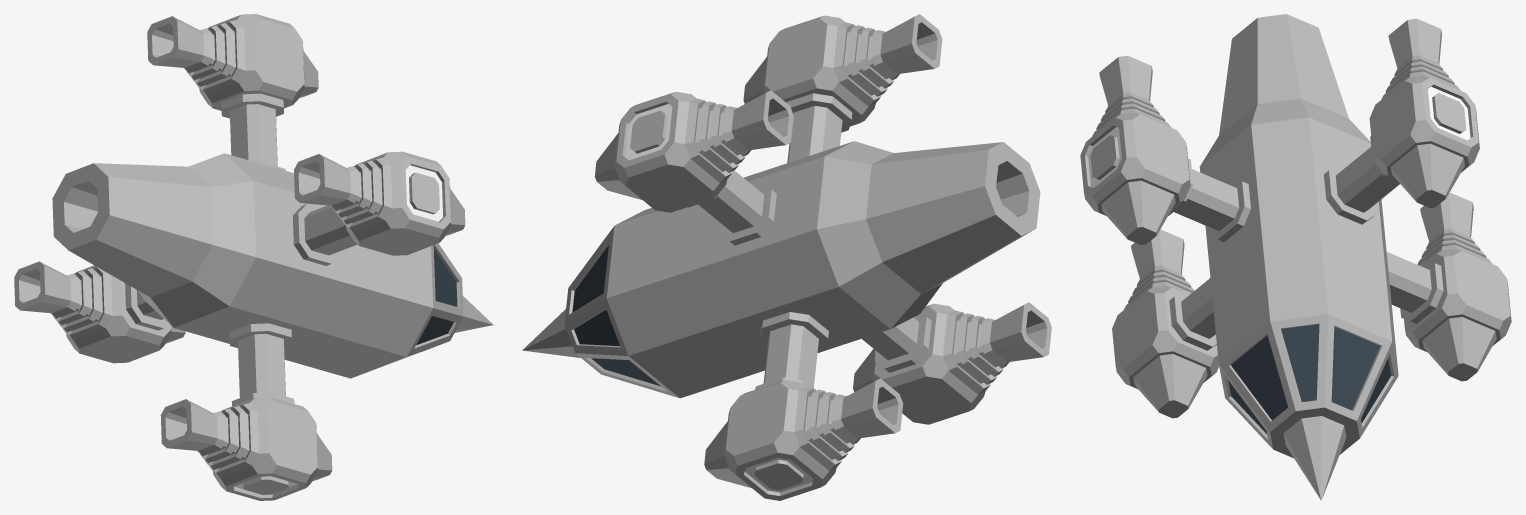
The model's file is Gemi(saglam).fbx.
3 views of the same model, side by side, from view 1: azimuth 30°, elevation 25°; view 2: azimuth 150°, elevation 25°; view 3: azimuth 270°, elevation 25° (orthographic). The views are drawn at different scales.
Visible parts, largest first — view 1: GemiSaglam; view 2: GemiSaglam; view 3: GemiSaglam.
Part boxes in pixels (x1=…): GemiSaglam: x1=14, y1=14, x2=493, y2=500; GemiSaglam: x1=522, y1=14, x2=1051, y2=500; GemiSaglam: x1=1080, y1=14, x2=1511, y2=500.
Bounding box in the file's own units: 1285 × 1051 × 1045.
